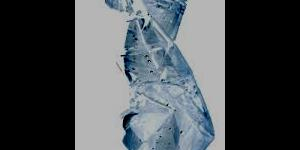Plastic: (86, 0, 218, 149)
